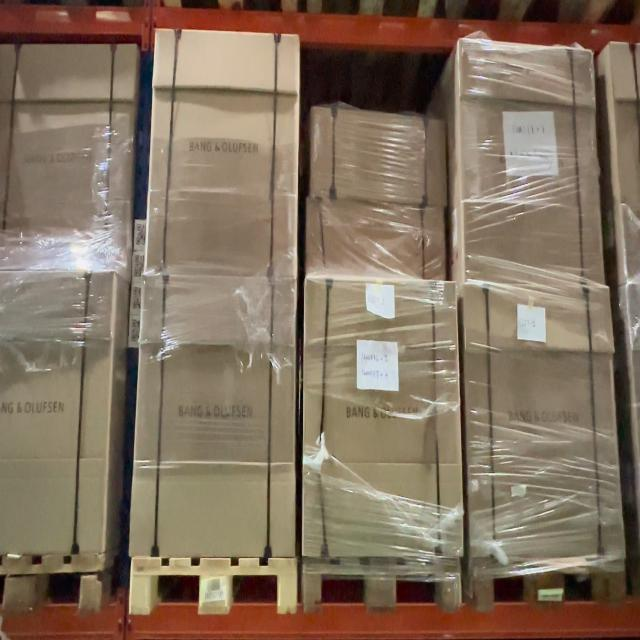box: (129, 277, 299, 557), (302, 280, 463, 558), (463, 282, 622, 554), (145, 29, 303, 277), (456, 39, 604, 286), (310, 104, 447, 204), (305, 197, 446, 281)
